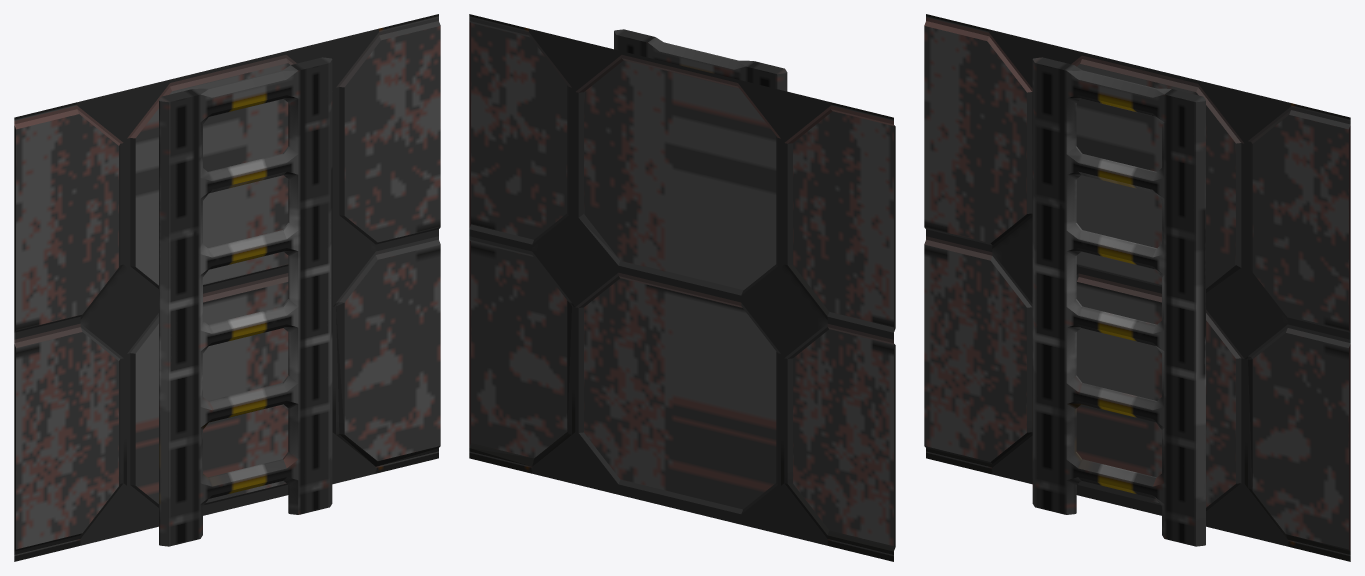
Rendered from eng1_4.fbx.
The picture shows the model from 3 angles, left to right: view 1: azimuth 30°, elevation 25°; view 2: azimuth 150°, elevation 25°; view 3: azimuth 330°, elevation 25°; orthographic projection.
Visible parts, largest first — view 1: eng1_4_mesh, eng1_4_mesh_ladder, eng1_4_mesh.edge2; view 2: eng1_4_mesh, eng1_4_mesh_ladder, eng1_4_mesh.edge1, eng1_4_mesh.edge2; view 3: eng1_4_mesh, eng1_4_mesh_ladder, eng1_4_mesh.edge1.
Part boxes in pixels (x1,y1,x2,y2): eng1_4_mesh: [14, 14, 440, 561]; eng1_4_mesh_ladder: [159, 57, 332, 546]; eng1_4_mesh.edge2: [14, 125, 15, 550]; eng1_4_mesh: [469, 14, 893, 561]; eng1_4_mesh_ladder: [614, 29, 787, 91]; eng1_4_mesh.edge1: [469, 21, 470, 446]; eng1_4_mesh.edge2: [894, 125, 895, 550]; eng1_4_mesh: [924, 14, 1350, 561]; eng1_4_mesh_ladder: [1032, 57, 1205, 546]; eng1_4_mesh.edge1: [1349, 125, 1350, 550].
Size of the model in its own units: 256 by 256 by 24.
